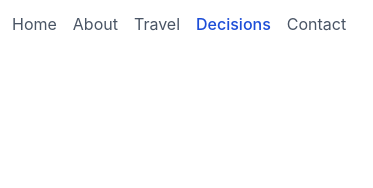
Test: NavLinks › toggles closed on a second click
Step 1. Click the button "Decisions" → (233, 24), box [196,12,271,36]
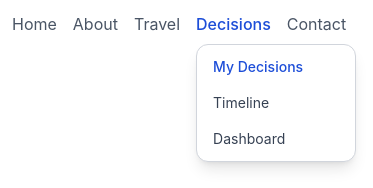
Now the menu is shown, box [196,44,356,162]
Step 2. Click the button "Decisions" → (233, 24), box [196,12,271,36]
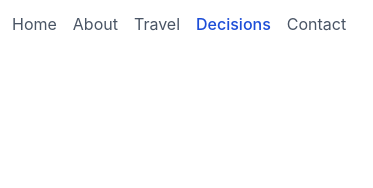
Now the menu is gone
